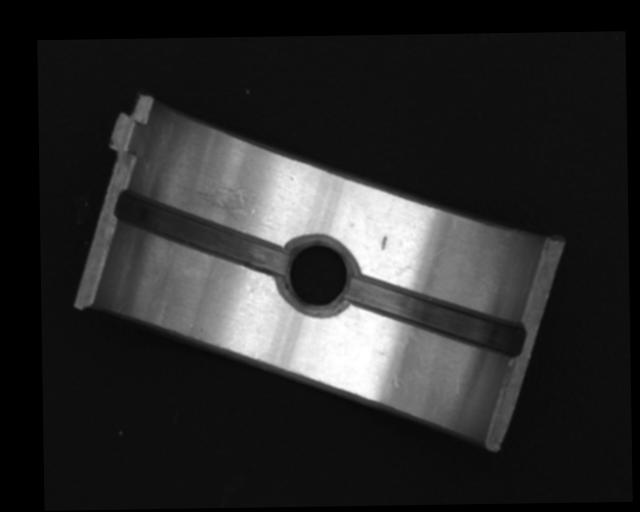bruise: (380, 233, 388, 250)
gap: (114, 188, 288, 278), (348, 275, 522, 357)
hole: (279, 238, 357, 314)
scratch: (175, 181, 270, 233)
